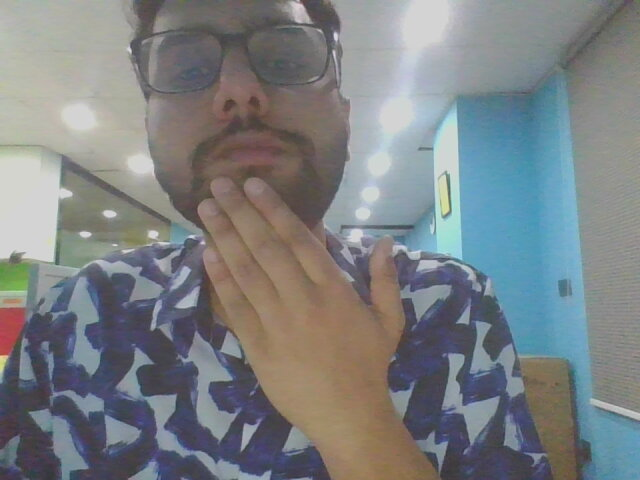thanks: (176, 167, 431, 464)
